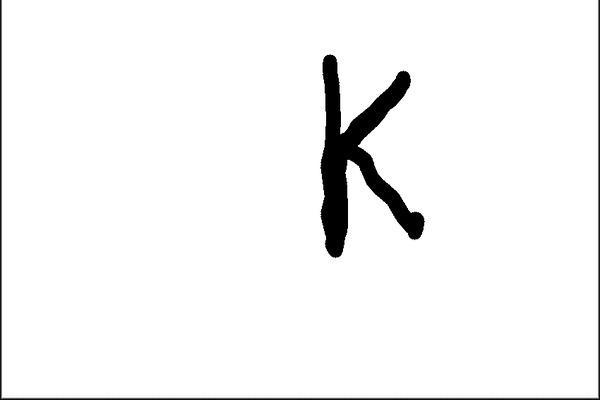K: (307, 51, 434, 258)
